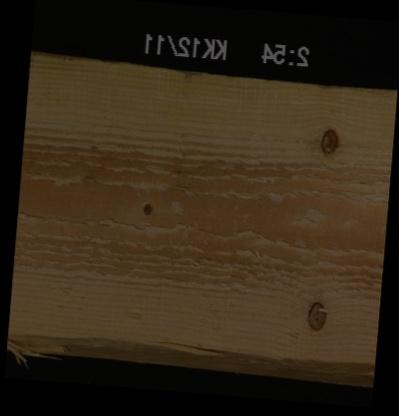dry_knot: (305, 298, 328, 332), (318, 126, 340, 155), (140, 199, 155, 217)
wave: (6, 339, 373, 371)
